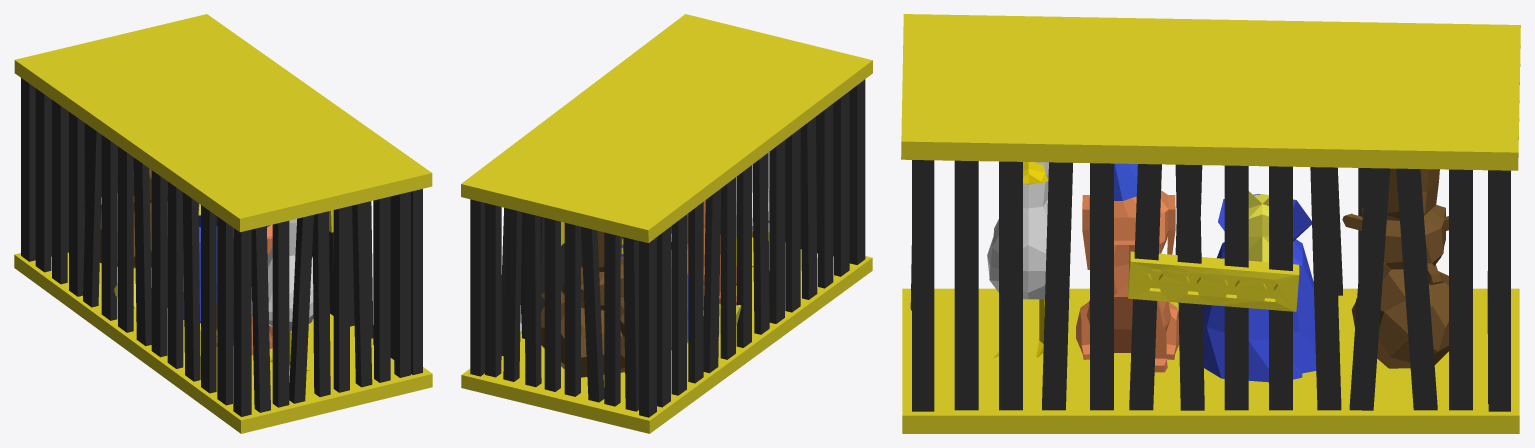
The model's file is cage 1.fbx.
3 renders of one model, left to right at view 1: azimuth 30°, elevation 25°; view 2: azimuth 150°, elevation 25°; view 3: azimuth 270°, elevation 25°, orthographic. The views are drawn at different scales.
Parts seen in each view (by area): view 1: cage, duck, fox, raccoon, dog; view 2: cage, raccoon, dog, fox; view 3: cage, raccoon, fox, dog, duck.
Part boxes in pixels (left/top/right/bottom): cage: left=14, top=14, right=432, bottom=433; duck: left=251, top=219, right=313, bottom=370; fox: left=114, top=203, right=217, bottom=323; raccoon: left=99, top=168, right=167, bottom=268; dog: left=216, top=224, right=272, bottom=355; cage: left=461, top=14, right=872, bottom=433; raccoon: left=541, top=229, right=624, bottom=377; dog: left=687, top=200, right=736, bottom=309; fox: left=621, top=226, right=741, bottom=350; cage: left=901, top=14, right=1520, bottom=433; raccoon: left=1342, top=168, right=1448, bottom=368; fox: left=1202, top=191, right=1316, bottom=382; dog: left=1076, top=163, right=1179, bottom=372; duck: left=987, top=162, right=1048, bottom=357.
Size of the model in its own units: 757 by 804 by 1546.
